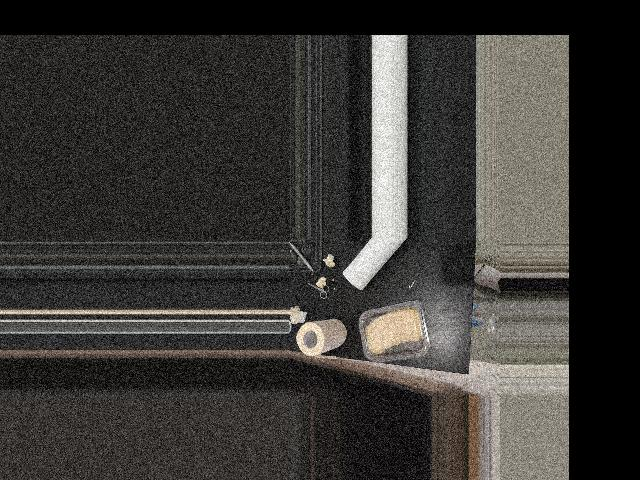cheese: (358, 302, 430, 357)
